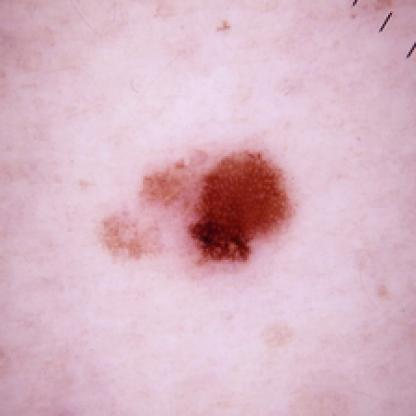Skin_Cancer-Malignant: (100, 145, 296, 276)
